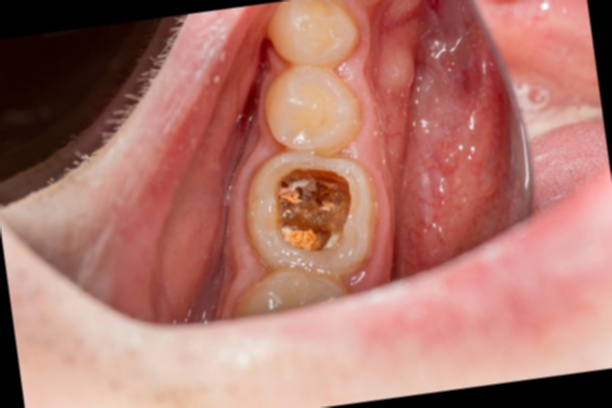Caries: (256, 159, 368, 264)
